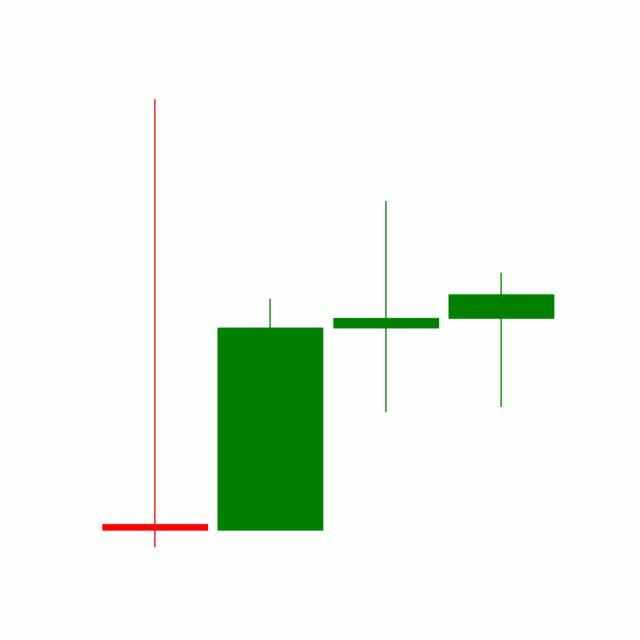Spinning Top: (329, 199, 445, 416)
